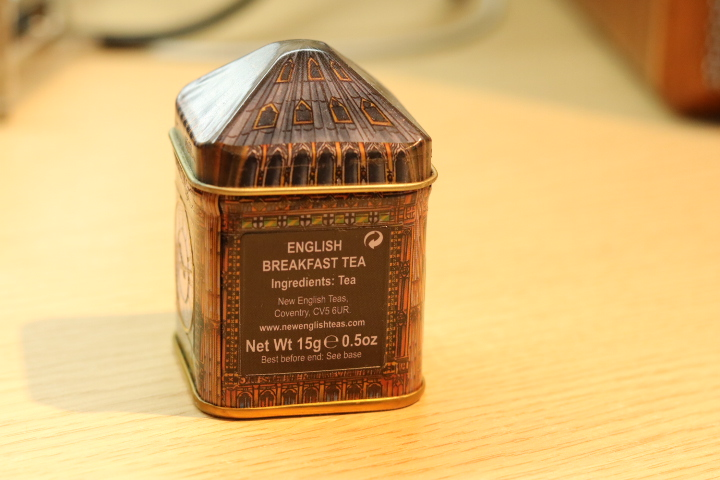Big Ben: (159, 26, 455, 450)
